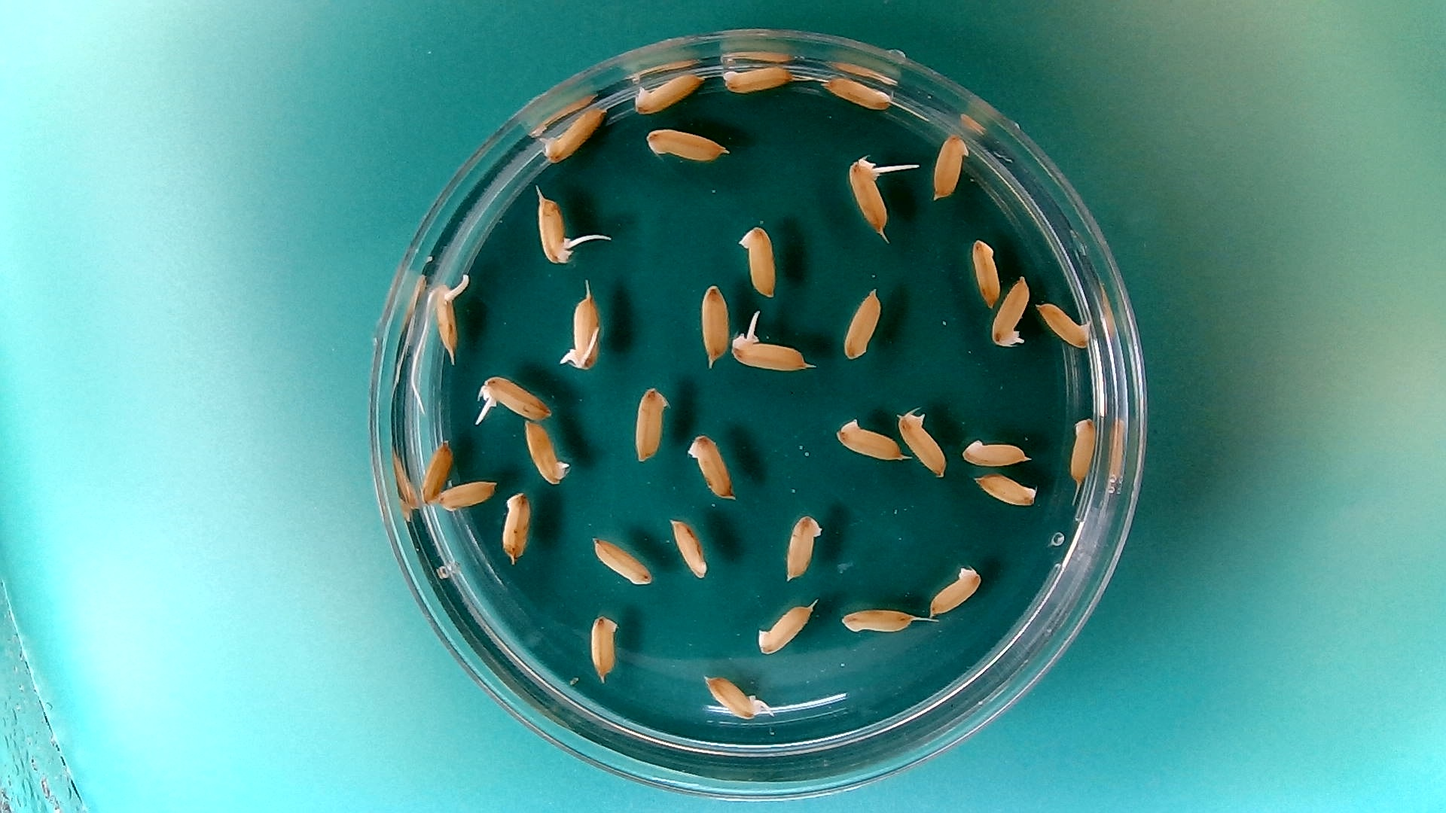no: (895, 404, 949, 478), (684, 428, 738, 501), (642, 123, 729, 165), (753, 598, 816, 656), (628, 69, 706, 115), (832, 414, 905, 463), (735, 219, 779, 300), (588, 534, 654, 587), (839, 284, 883, 361), (780, 509, 825, 583), (630, 380, 670, 463), (926, 562, 984, 618), (834, 604, 942, 634), (1033, 297, 1094, 348), (929, 129, 971, 202), (584, 609, 623, 684), (820, 72, 894, 111), (668, 513, 711, 580), (697, 279, 730, 366), (718, 58, 795, 94), (498, 488, 534, 565), (968, 234, 1002, 309), (972, 471, 1040, 508), (958, 434, 1033, 467), (419, 436, 453, 507), (435, 474, 498, 511), (1067, 416, 1095, 485)
yes: (534, 101, 609, 164), (728, 319, 813, 373), (844, 153, 899, 236), (557, 285, 605, 374), (474, 372, 554, 424), (534, 184, 584, 267), (428, 273, 469, 363), (700, 670, 769, 721), (522, 416, 572, 486), (989, 272, 1032, 350)
